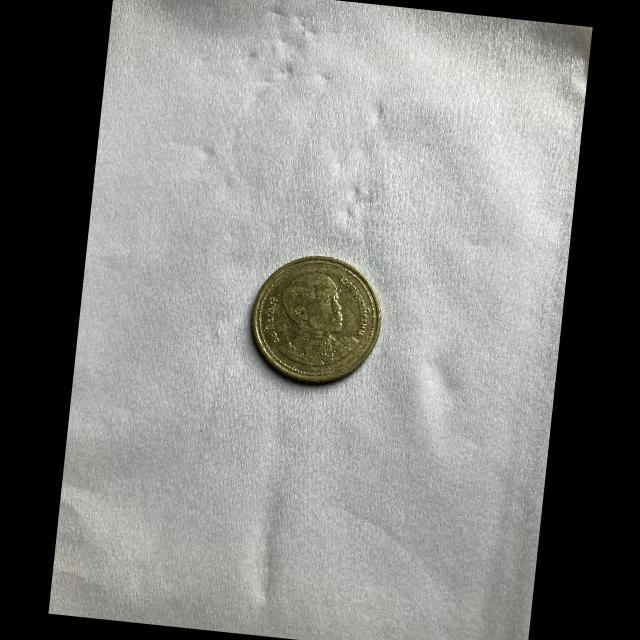2 Bath: (250, 252, 389, 391)
